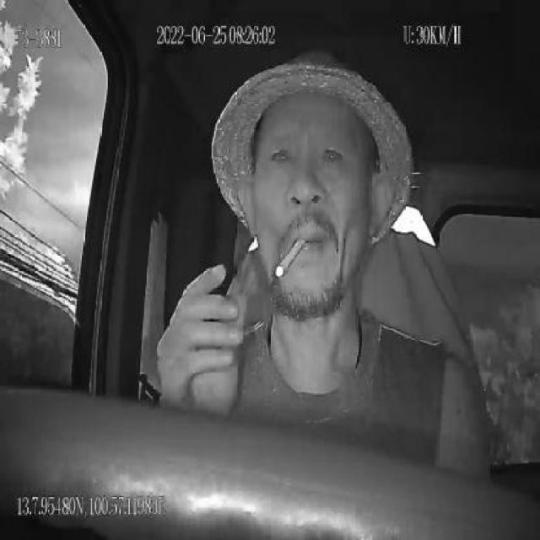smoking: (275, 236, 306, 282)
